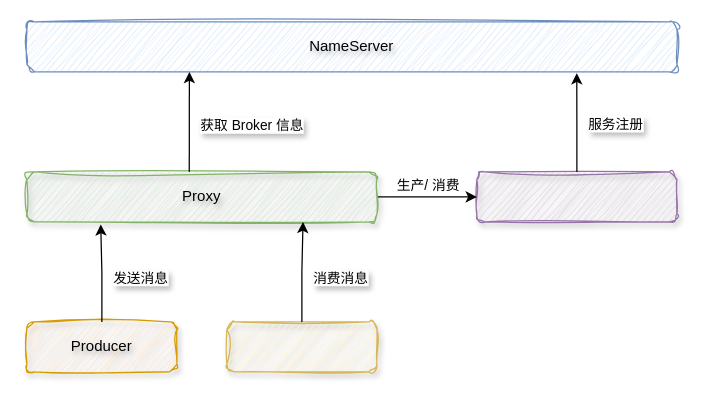
Image size: 706x403. Some labels were removed from this diagram. The shapes that lost their labels are listed below. From the top down, each one's centre as x and y in pixels, then its label:
At [577,198]: "Broker".
At [302,348]: "Consumer".
